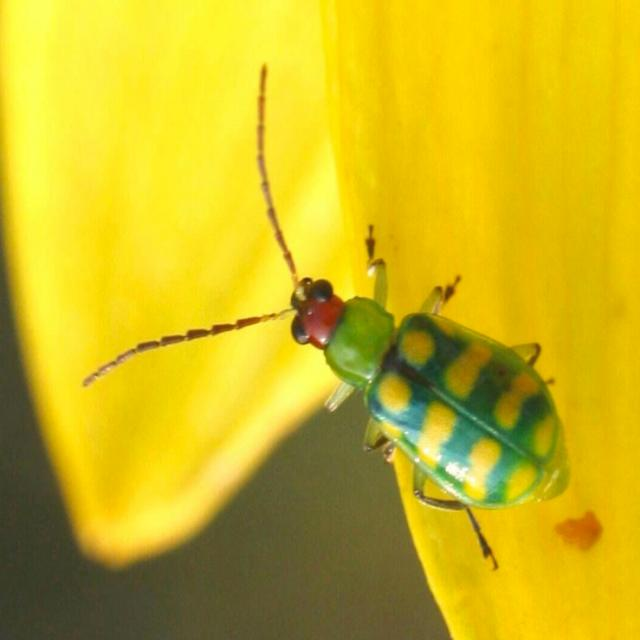cucumber_beetle: (78, 71, 584, 566)
